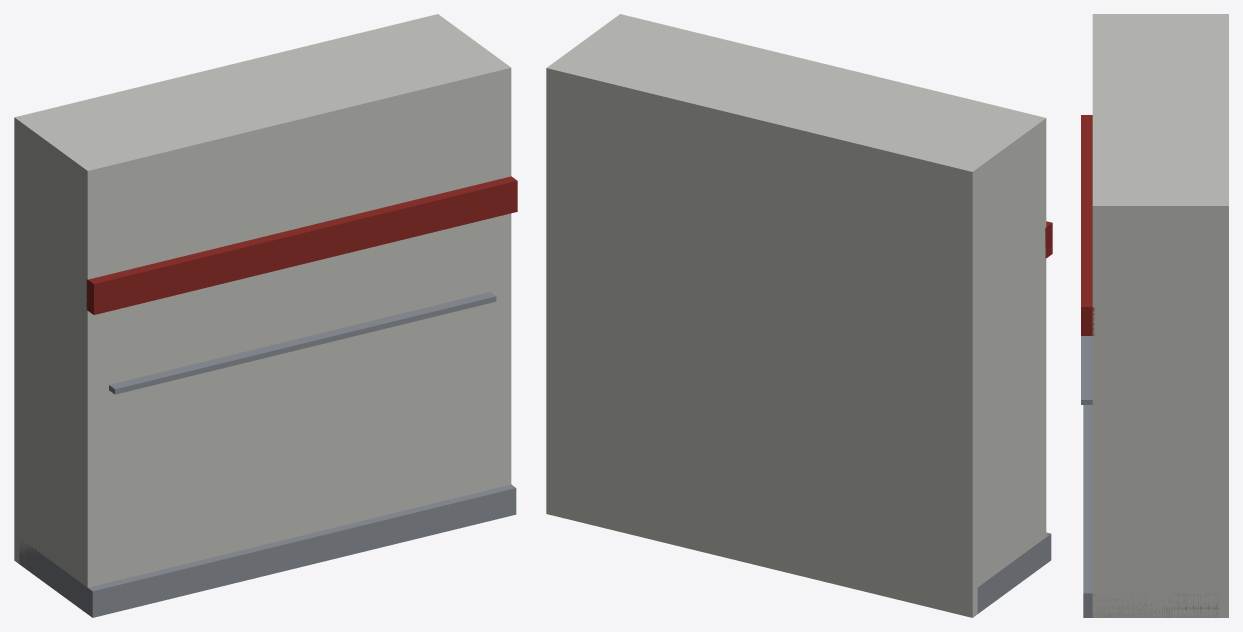
File: republic_wall.glb
3 views of the same model, side by side, from view 1: azimuth 30°, elevation 25°; view 2: azimuth 150°, elevation 25°; view 3: azimuth 270°, elevation 25° (orthographic). The views are drawn at different scales.
Parts seen in each view (by area): view 1: republic_wall; view 2: republic_wall; view 3: republic_wall.
Part boxes in pixels (bbox=[...]): republic_wall: bbox=[14, 14, 517, 617]; republic_wall: bbox=[546, 14, 1052, 617]; republic_wall: bbox=[1081, 14, 1228, 617].
Bounding box in the file's own units: 1 × 1 × 0.325.
